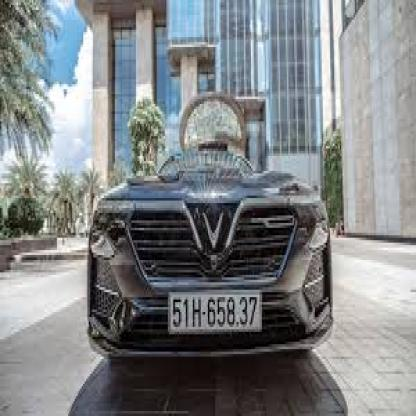biensoxe: (167, 290, 262, 334)
